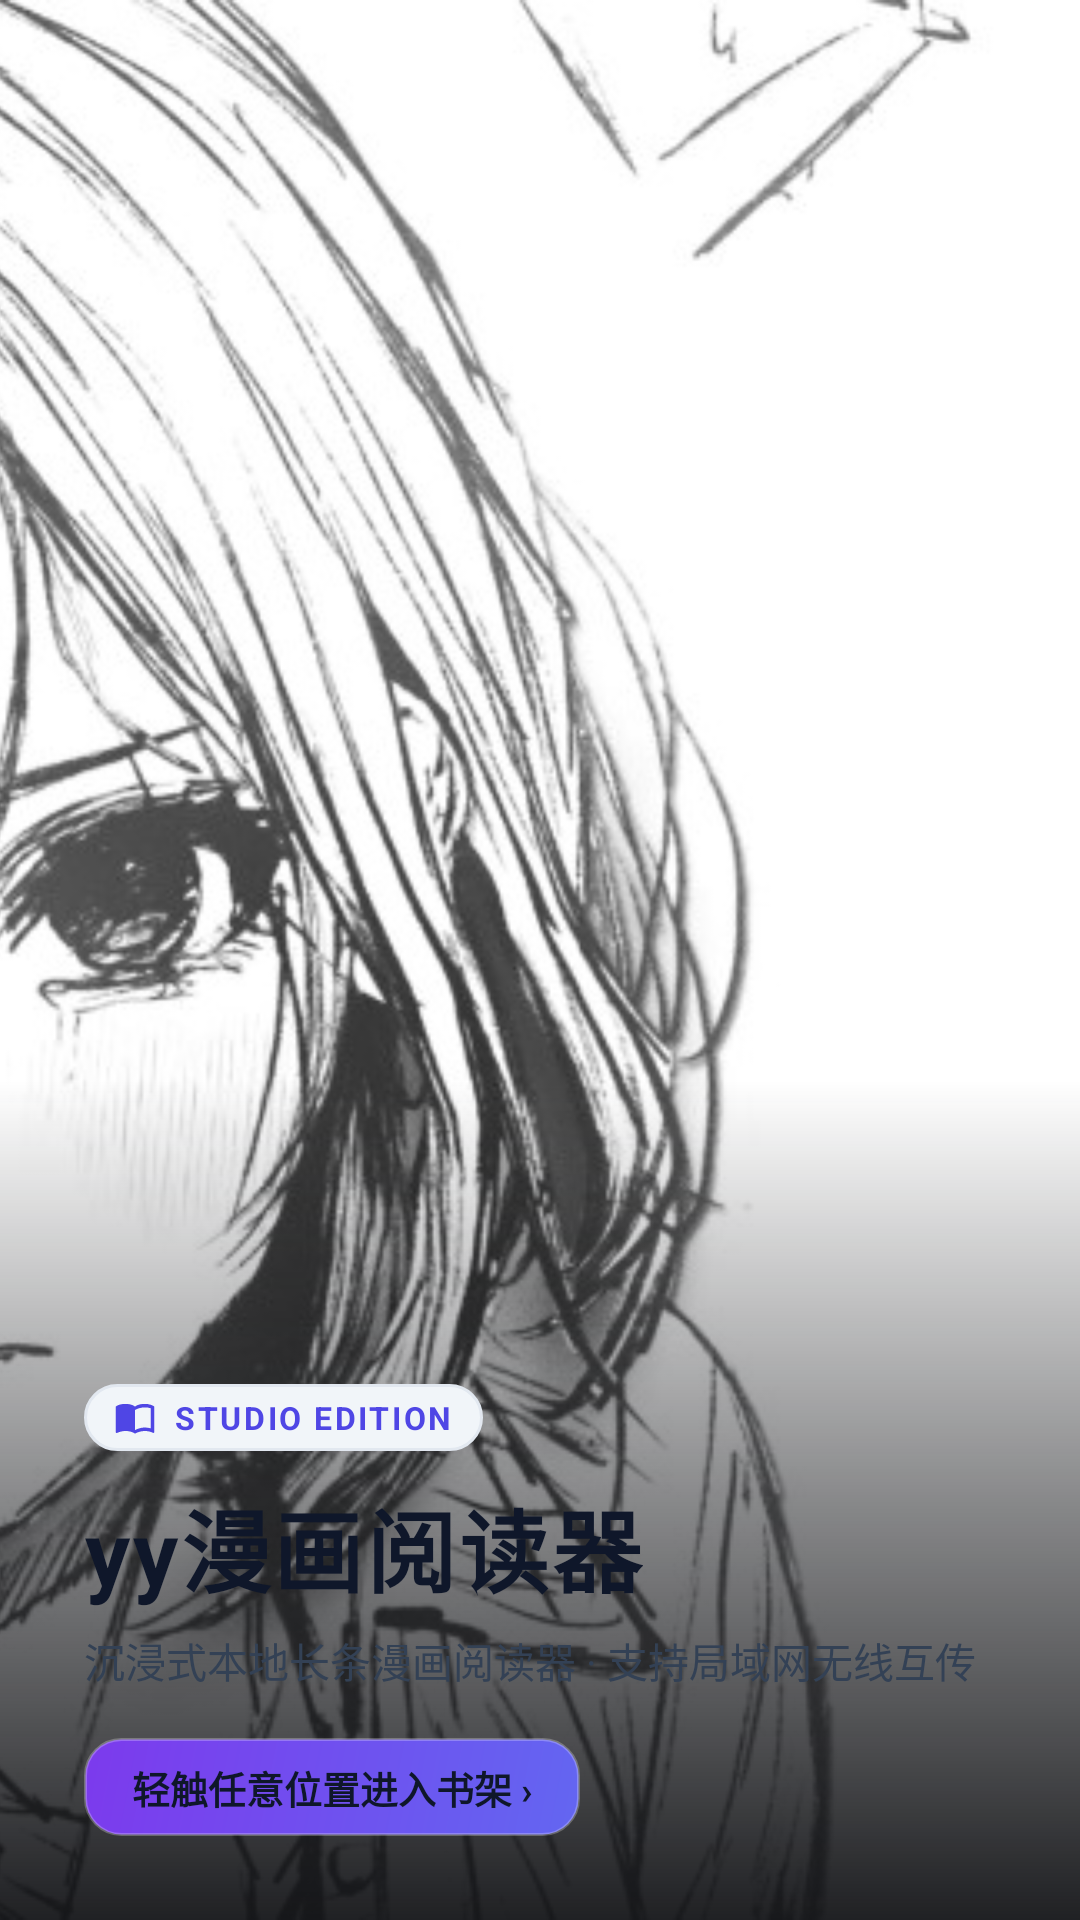

Icon bounding boxes for this 1080 × 1920 phone screenshot, format (x1, y1, x2, y2):
book open: (115, 1404, 155, 1434)
